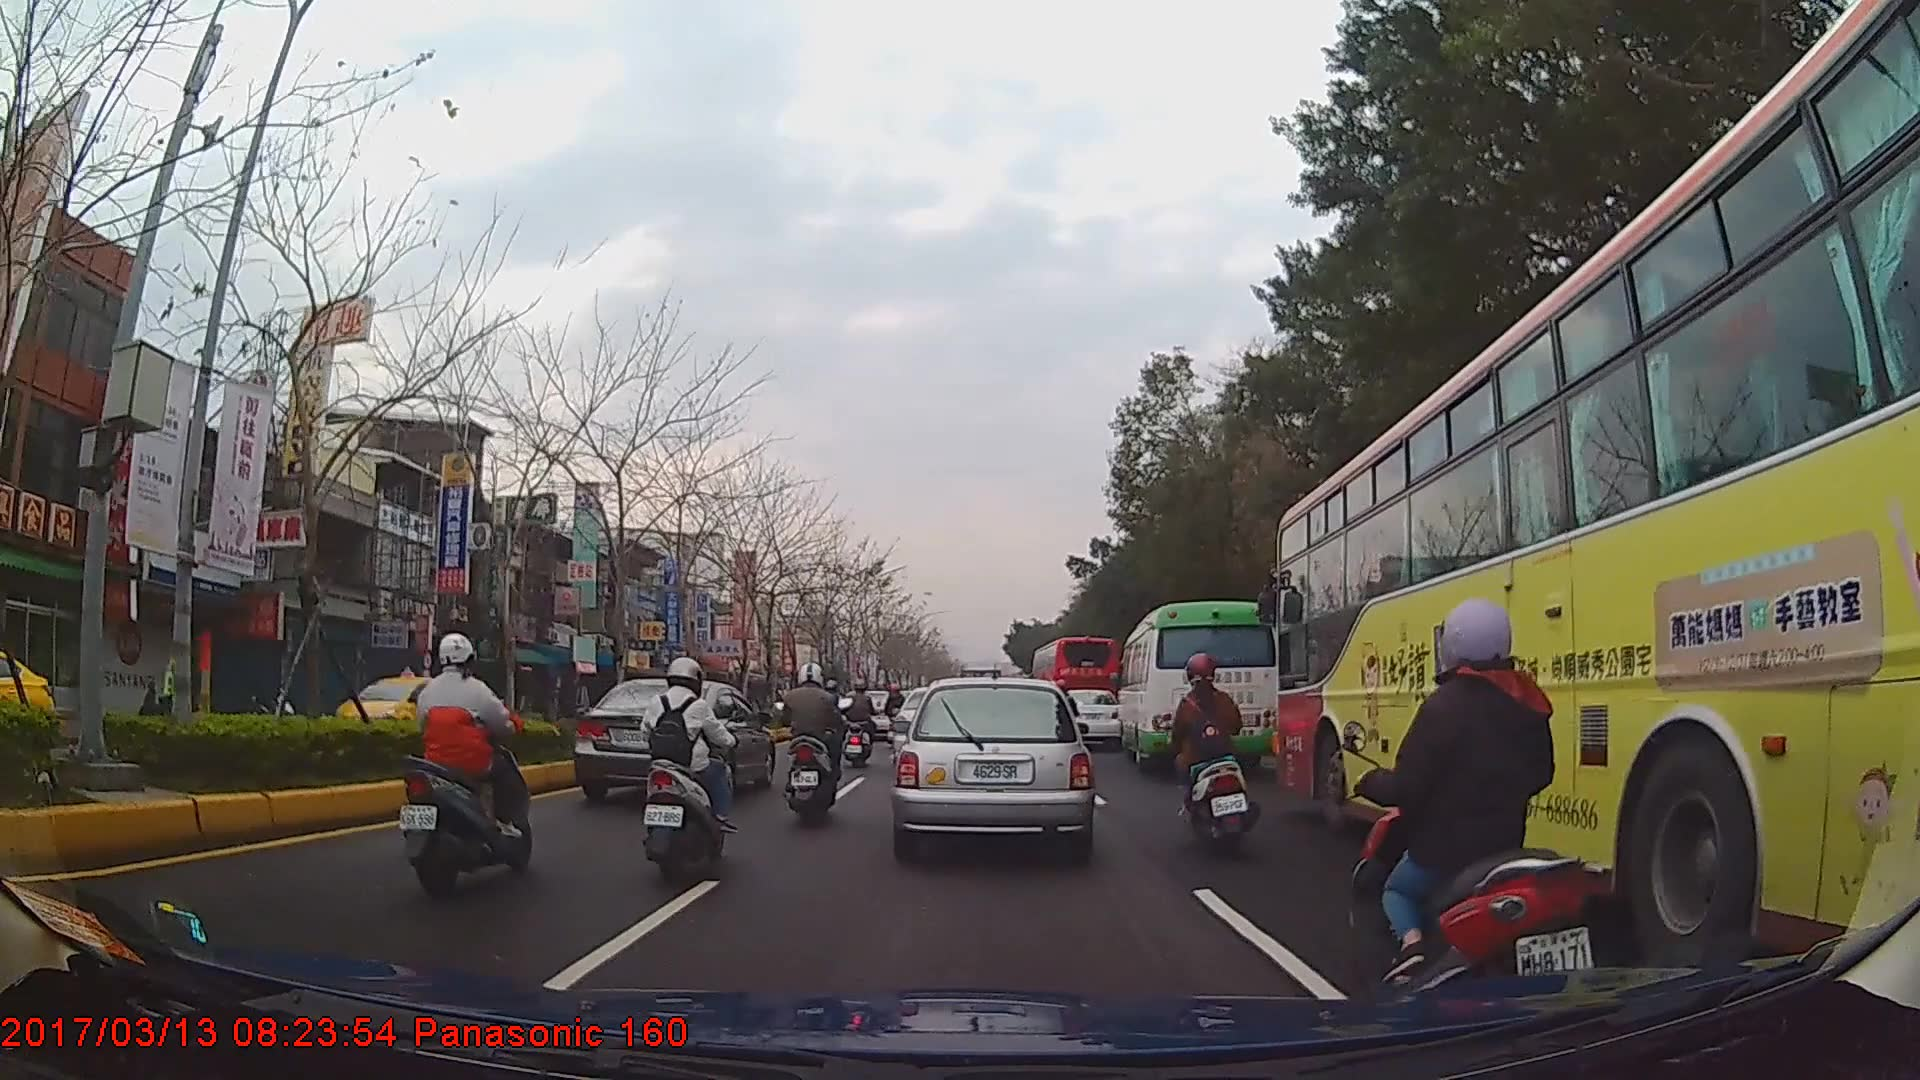rider: (1357, 597, 1598, 1000), (400, 630, 533, 900), (642, 656, 735, 887), (1164, 650, 1255, 852), (778, 665, 851, 823), (842, 679, 881, 769), (884, 682, 907, 746)
vehicle: (1269, 0, 1920, 999), (893, 672, 1093, 858), (1115, 598, 1283, 772), (568, 677, 776, 803), (326, 663, 474, 751), (1030, 633, 1116, 740), (1051, 686, 1122, 745)
